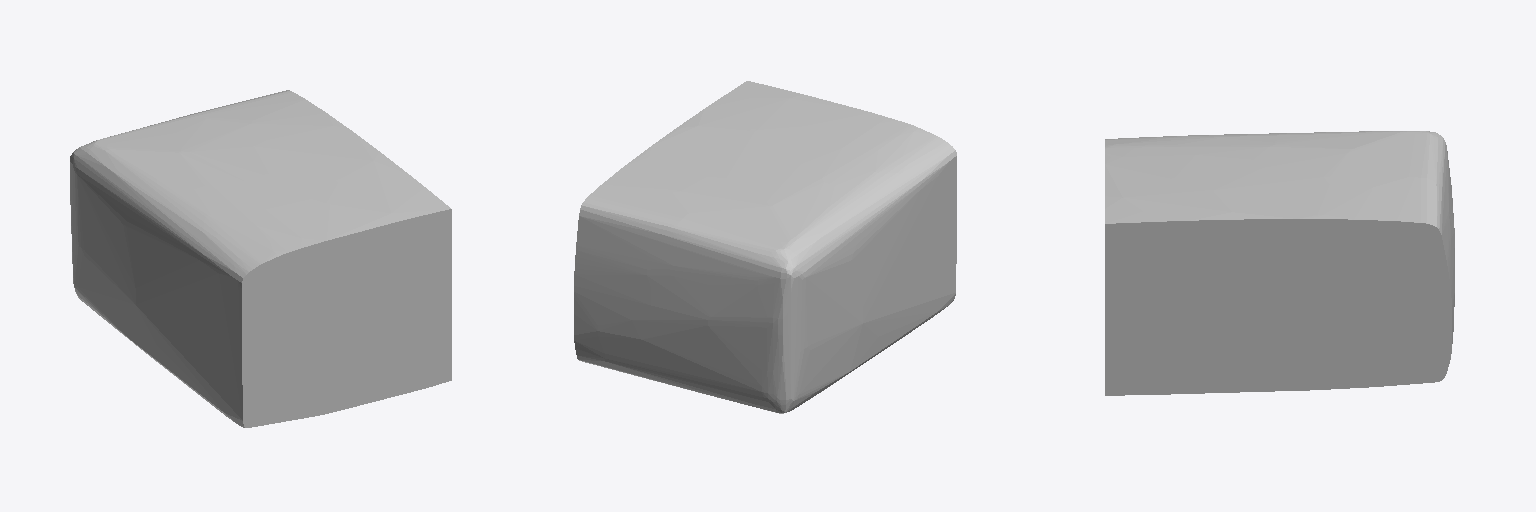
File: box_pink_M_collision_3.obj
3 renders of one model, left to right at view 1: azimuth 30°, elevation 25°; view 2: azimuth 150°, elevation 25°; view 3: azimuth 270°, elevation 25°, orthographic.
Bounding box in the file's own units: 0.0472 × 0.0375 × 0.0662.